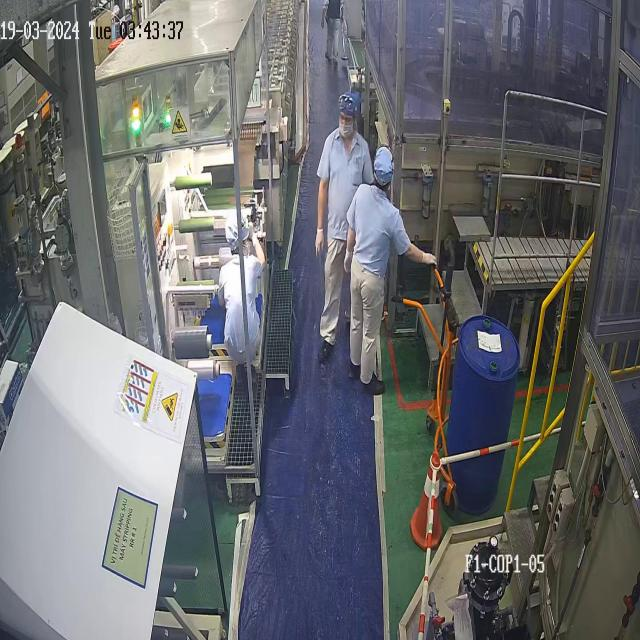Person: (343, 145, 438, 395), (314, 92, 374, 364), (217, 208, 265, 364), (321, 0, 343, 68)
